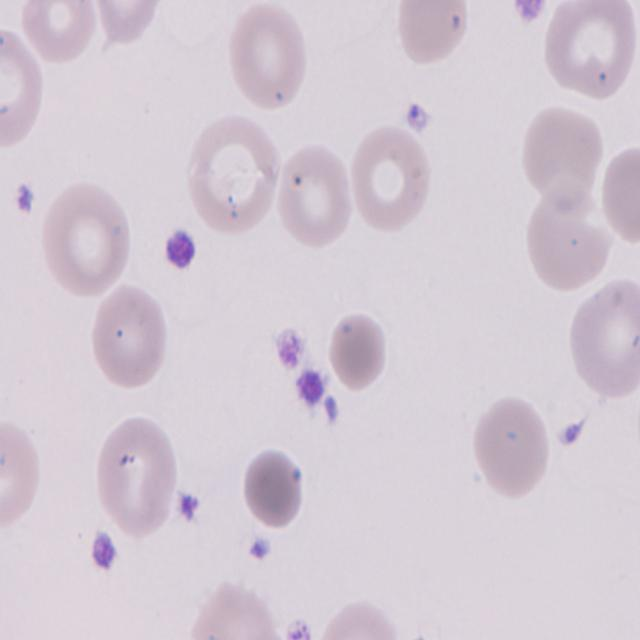RBC: (184, 111, 286, 241), (88, 415, 181, 540), (39, 180, 134, 298), (540, 0, 638, 104), (522, 184, 612, 294), (89, 280, 172, 392), (225, 4, 307, 116), (519, 104, 603, 211), (349, 128, 432, 236), (274, 138, 353, 250), (471, 397, 549, 502), (572, 278, 640, 398), (18, 0, 104, 68), (1, 25, 47, 150), (183, 584, 284, 638), (0, 414, 42, 536), (396, 0, 470, 68), (599, 143, 640, 261), (312, 601, 410, 640), (89, 0, 168, 42)
Spherocyte: (322, 309, 390, 404), (237, 450, 310, 534)
